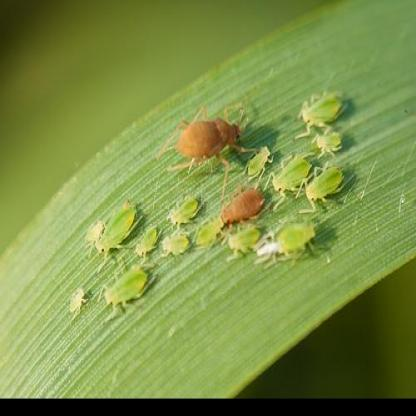aphid: (160, 102, 252, 172), (93, 198, 144, 258), (100, 263, 152, 314), (219, 177, 265, 231), (272, 213, 317, 263), (303, 157, 348, 205), (294, 89, 350, 127), (274, 148, 314, 198), (223, 214, 263, 261), (243, 138, 274, 184), (192, 212, 226, 251), (158, 224, 190, 263), (309, 125, 343, 159), (131, 222, 162, 255), (170, 196, 199, 226), (66, 288, 90, 318), (82, 219, 104, 250)
